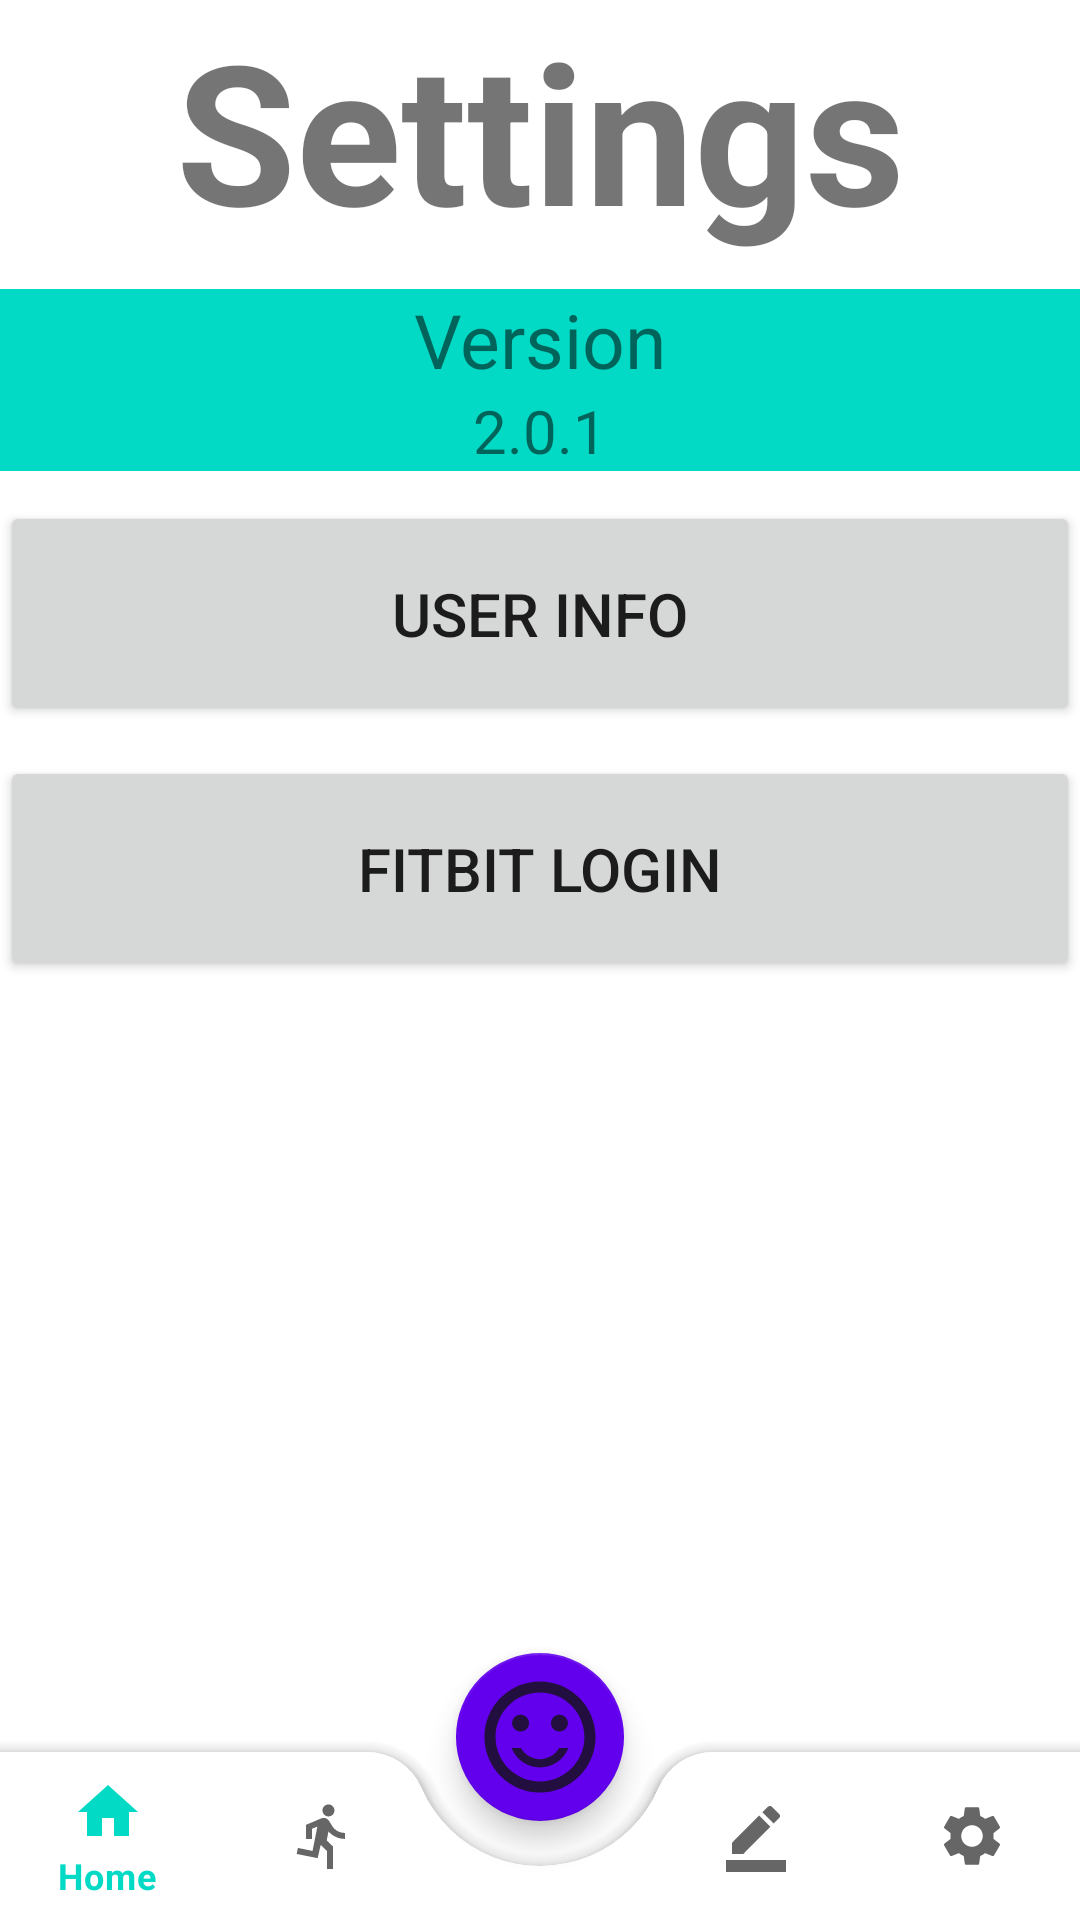

Icons on this 1080 × 1920 Android screen, each with the point to tap as point (x, y):
smiley: point (540, 1752)
